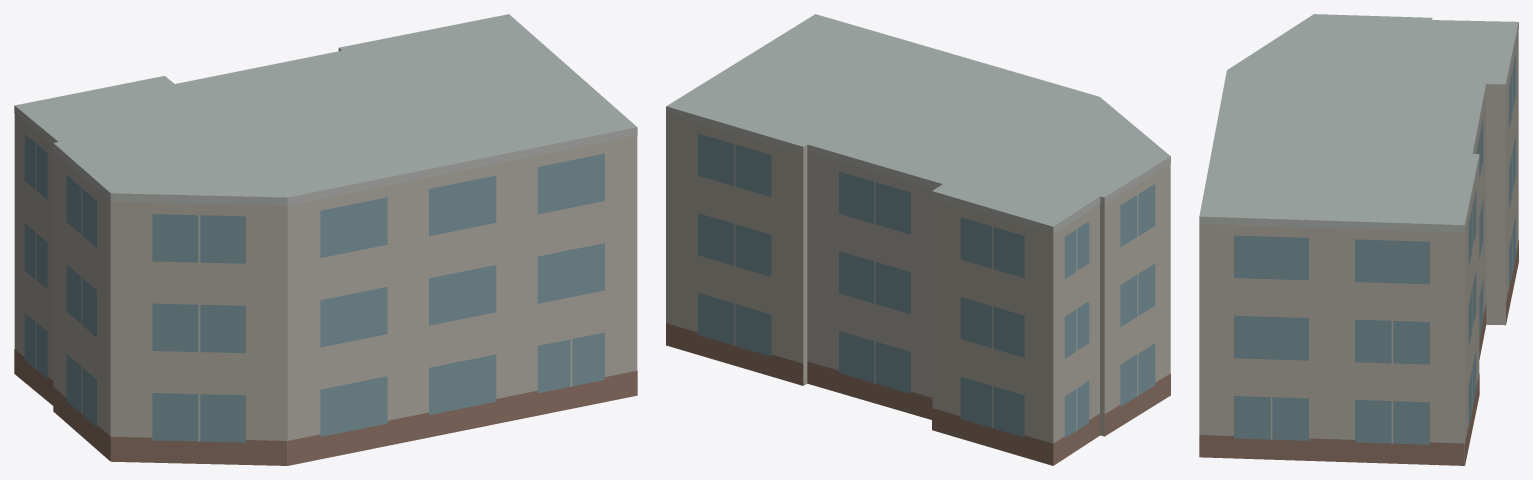
Rendered from survey-upis-32672520.glb.
3 views of the same model, side by side, from view 1: azimuth 30°, elevation 25°; view 2: azimuth 150°, elevation 25°; view 3: azimuth 270°, elevation 25° (orthographic). The views are drawn at different scales.
Visible parts, largest first — view 1: survey-upis-32672520.tmp; view 2: survey-upis-32672520.tmp; view 3: survey-upis-32672520.tmp.
Boxes of the visible parts, <box> form: survey-upis-32672520.tmp: <box>14,14,637,465</box>; survey-upis-32672520.tmp: <box>666,14,1170,465</box>; survey-upis-32672520.tmp: <box>1199,14,1518,465</box>.
Size of the model in its own units: 14.95 by 7.94 by 9.56.
